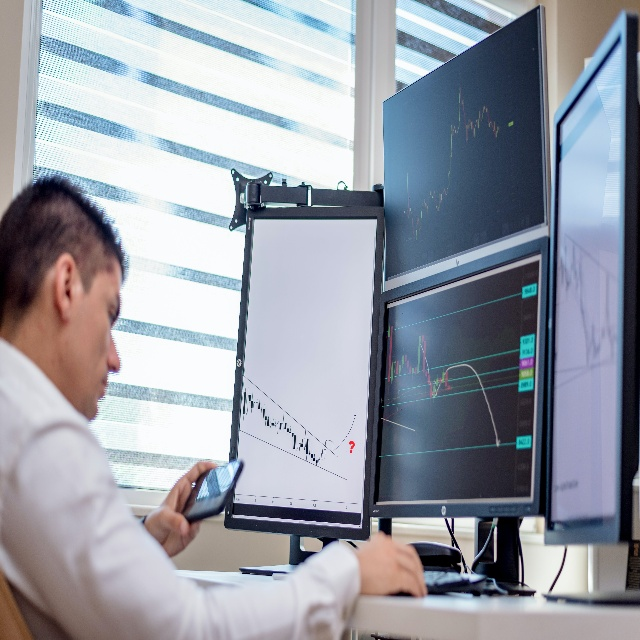Sin_guantes: (144, 458, 218, 558), (353, 530, 428, 599)
